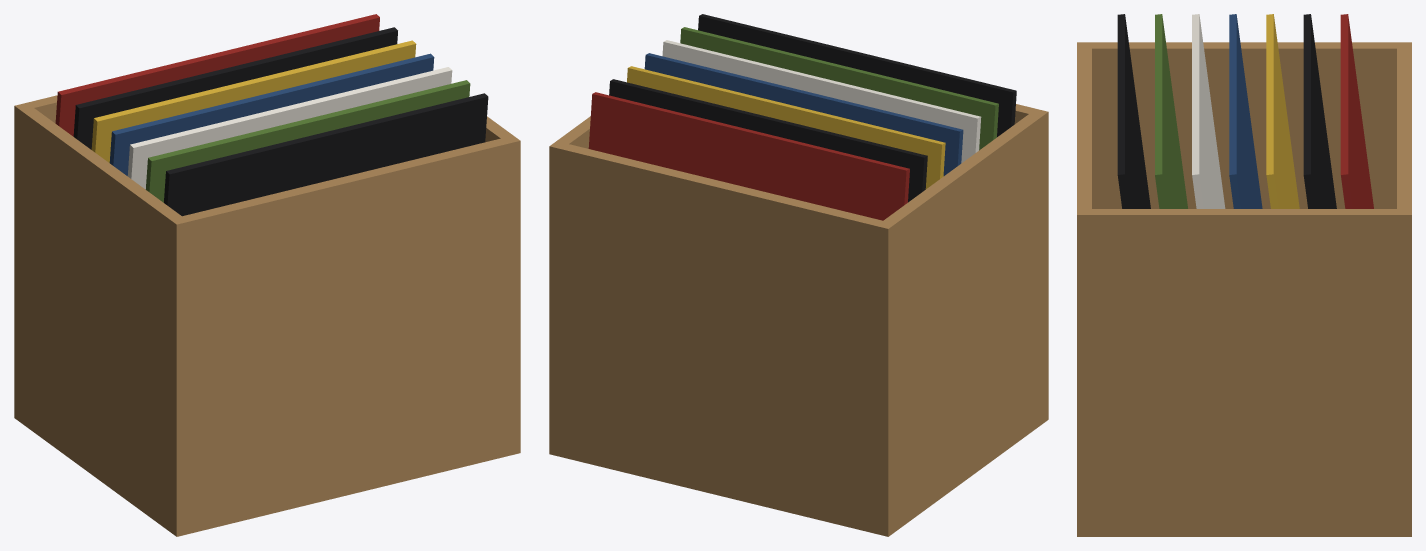
Rendered from crate-old-records-somebodys.glb.
3 views of the same model, side by side, from view 1: azimuth 30°, elevation 25°; view 2: azimuth 150°, elevation 25°; view 3: azimuth 270°, elevation 25° (orthographic). The views are drawn at different scales.
Bounding box in the file's own units: 1.1 × 1.06 × 0.9.
